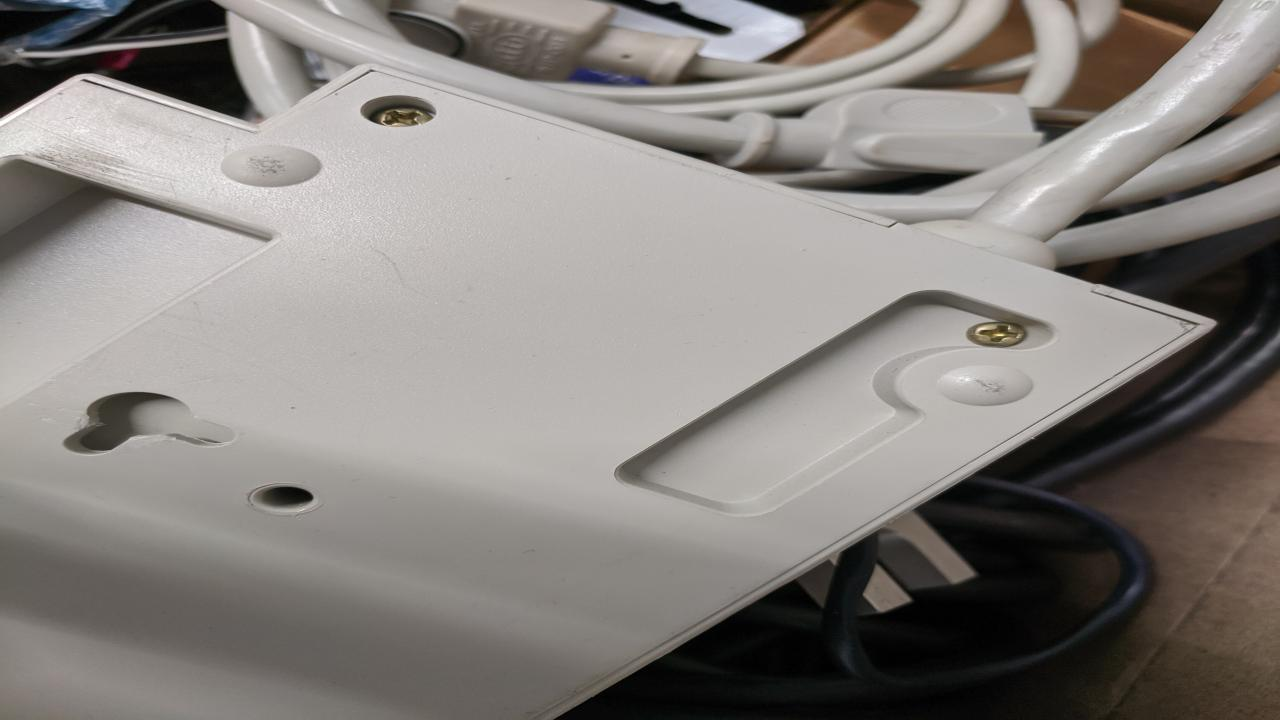CRS: (366, 102, 434, 129), (968, 322, 1034, 346)
